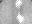person: (18, 13, 24, 23), (15, 1, 21, 8)
